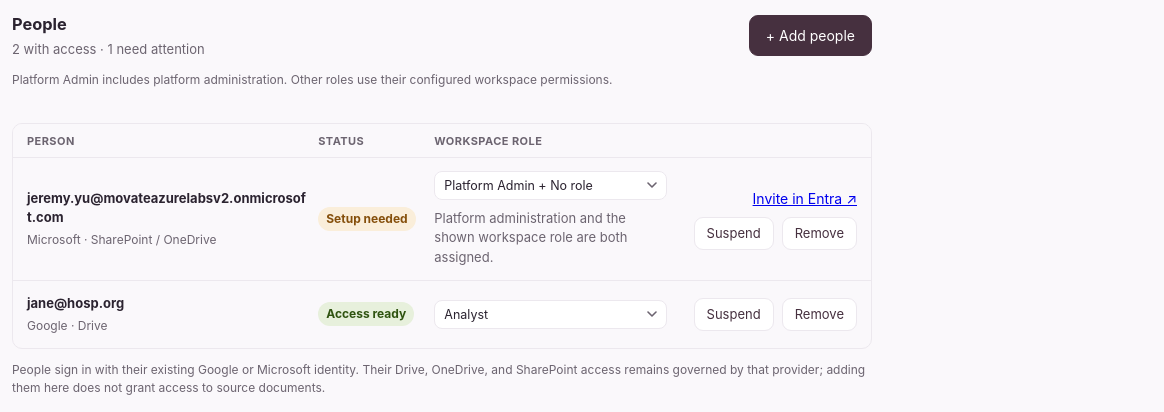
Test case: the role-change toast escapes its container › renders outside the component subtree, at document.body
This screenshot has width=1164, height=412.
Select "Analyst" in the dropdown named "Workspace role for jane@hosp.org" at (551, 314), box left=434, top=300, right=667, bottom=329
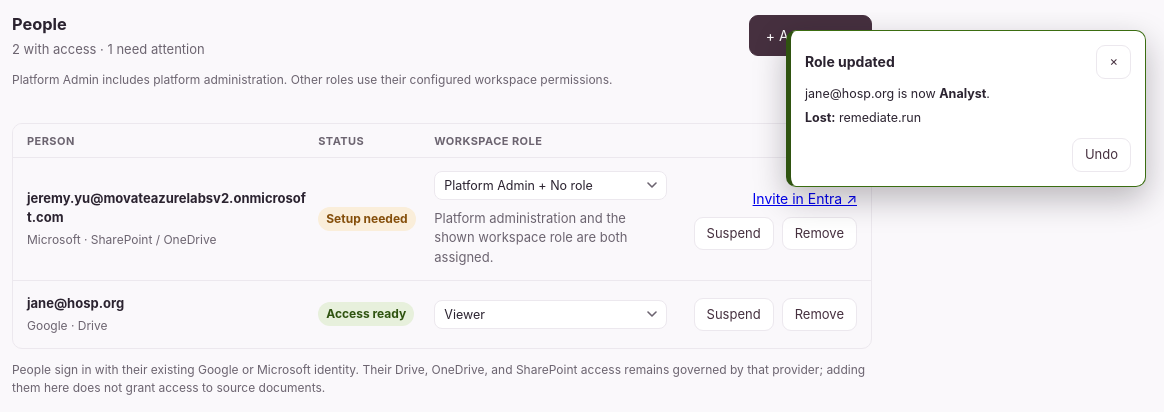
Now the message "Role updated × jane@hosp.org is now Analyst. Lost: remediate.run Undo" is shown, box left=786, top=30, right=1146, bottom=186
